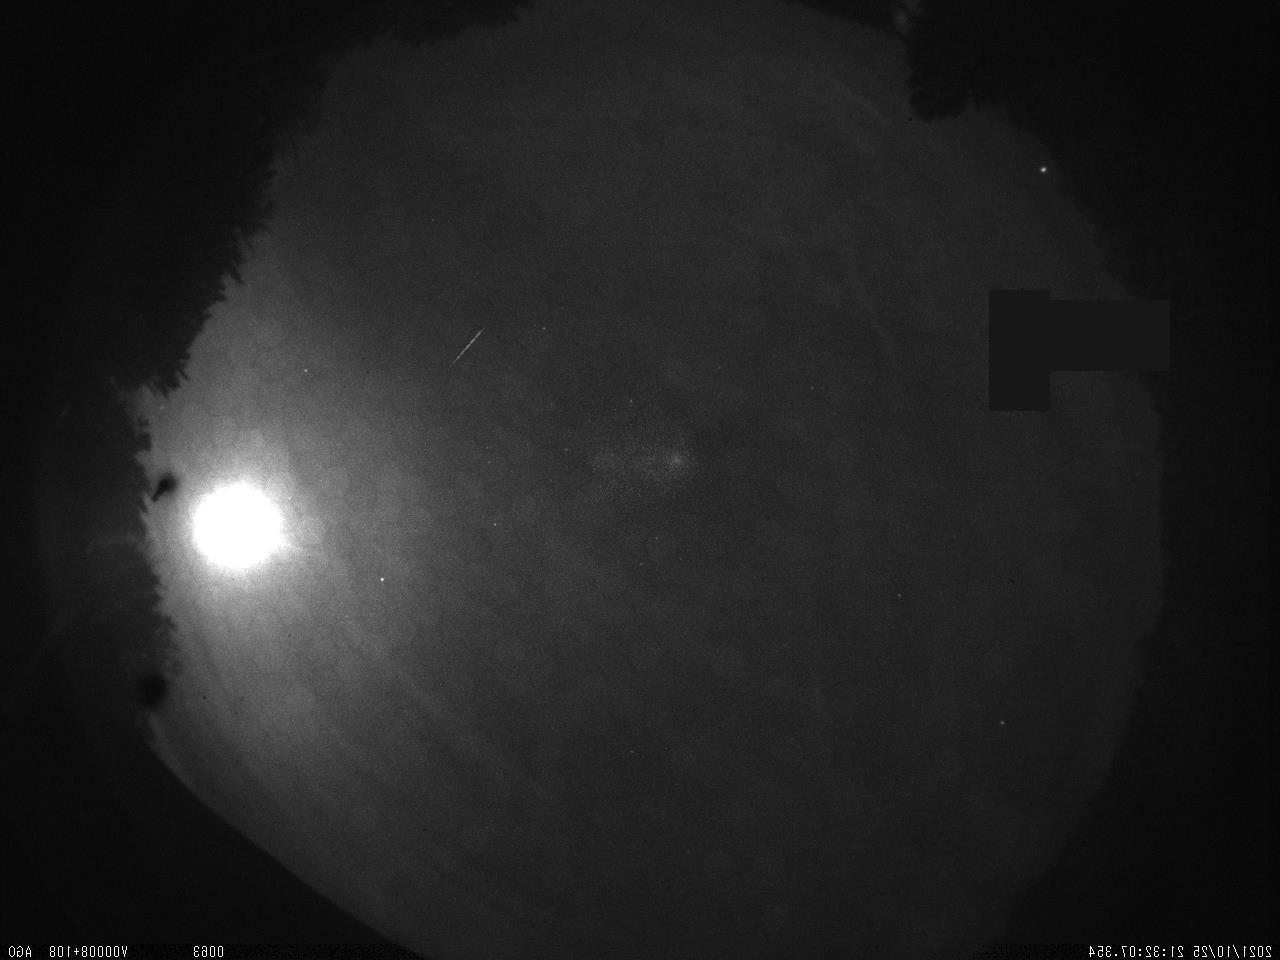meteor: (429, 313, 496, 382)
